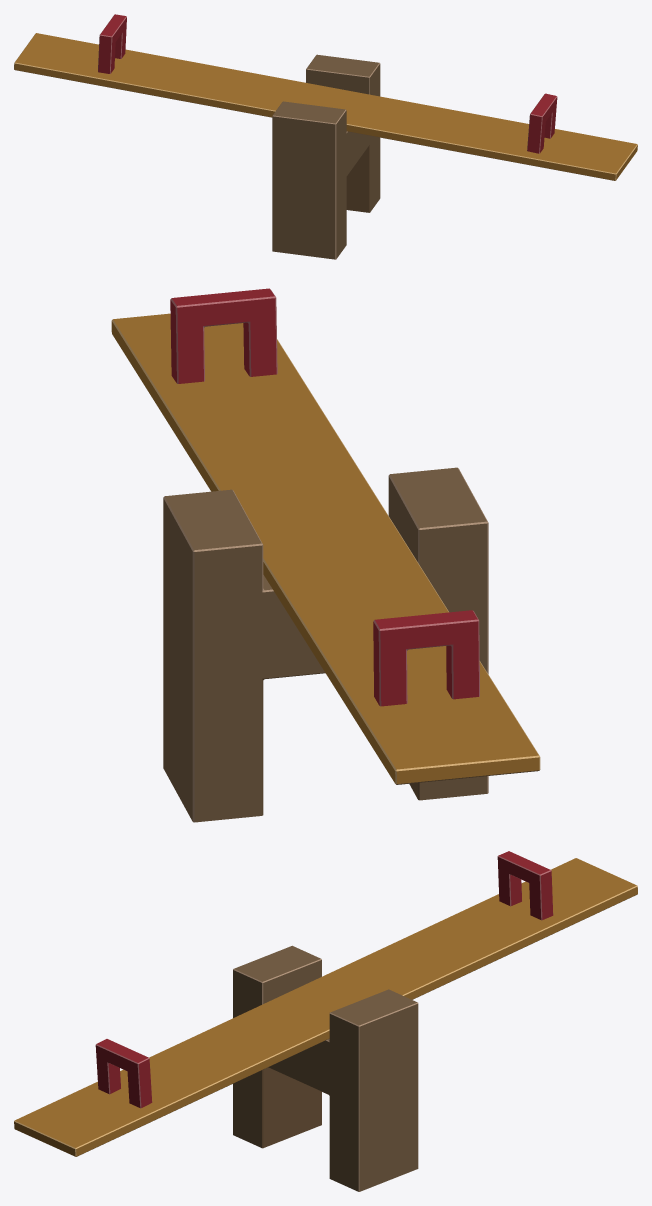
Rendered from seesaw.fbx.
3 renders of one model, top to bottom at view 1: azimuth 30°, elevation 25°; view 2: azimuth 150°, elevation 25°; view 3: azimuth 270°, elevation 25°, orthographic. The views are drawn at different scales.
Visible parts, largest first — view 1: Cube.022; view 2: Cube.022; view 3: Cube.022.
Boxes of the visible parts, x1,y1,x2,y2 form: Cube.022: (14, 14, 637, 259); Cube.022: (111, 288, 540, 822); Cube.022: (14, 851, 637, 1191).
Bounding box in the file's own units: 685 × 269 × 723.
